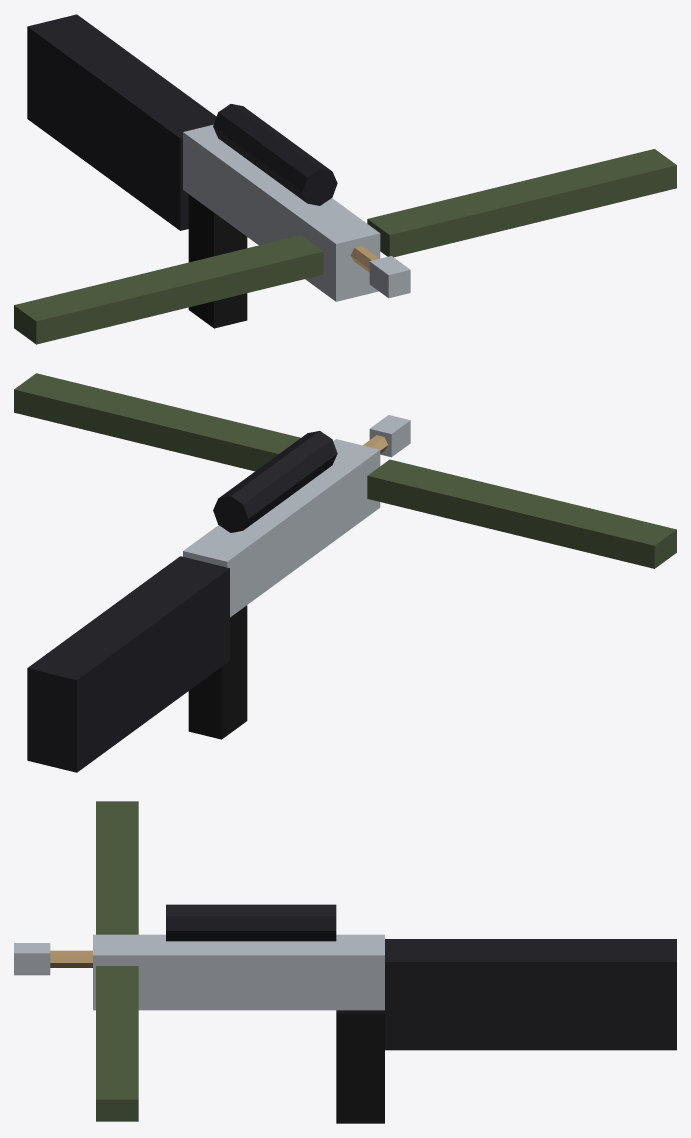
File: Weapon_Crossbow.obj
3 renders of one model, top to bottom at view 1: azimuth 30°, elevation 25°; view 2: azimuth 150°, elevation 25°; view 3: azimuth 270°, elevation 25°, orthographic. The views are drawn at different scales.
Visible parts, largest first — view 1: Stock, LeftLimb, RailTrack, RightLimb, Scope, Grip, Broadhead; view 2: Stock, LeftLimb, RailTrack, RightLimb, Scope, Grip, Broadhead; view 3: Stock, RailTrack, RightLimb, Scope, LeftLimb, Grip, Broadhead, BoltArrow.
Part boxes in pixels (left/top/right/bottom): Stock: left=27, top=14, right=216, bottom=230; LeftLimb: left=14, top=235, right=323, bottom=344; RailTrack: left=183, top=124, right=380, bottom=301; RightLimb: left=367, top=149, right=676, bottom=257; Scope: left=213, top=104, right=337, bottom=205; Grip: left=188, top=194, right=247, bottom=328; Broadhead: left=369, top=256, right=410, bottom=298; Stock: left=27, top=556, right=229, bottom=772; LeftLimb: left=367, top=459, right=676, bottom=568; RailTrack: left=183, top=439, right=380, bottom=617; RightLimb: left=14, top=373, right=300, bottom=471; Scope: left=213, top=431, right=337, bottom=532; Grip: left=188, top=605, right=247, bottom=739; Broadhead: left=369, top=415, right=410, bottom=457; Stock: left=385, top=939, right=676, bottom=1050; RailTrack: left=93, top=934, right=384, bottom=1010; RightLimb: left=96, top=966, right=138, bottom=1121; Scope: left=166, top=904, right=336, bottom=941; LeftLimb: left=96, top=801, right=138, bottom=934; Grip: left=336, top=1010, right=384, bottom=1123; Broadhead: left=14, top=943, right=50, bottom=975; BoltArrow: left=50, top=950, right=92, bottom=967.
Size of the model in its own units: 0.58 by 0.191 by 0.545.
